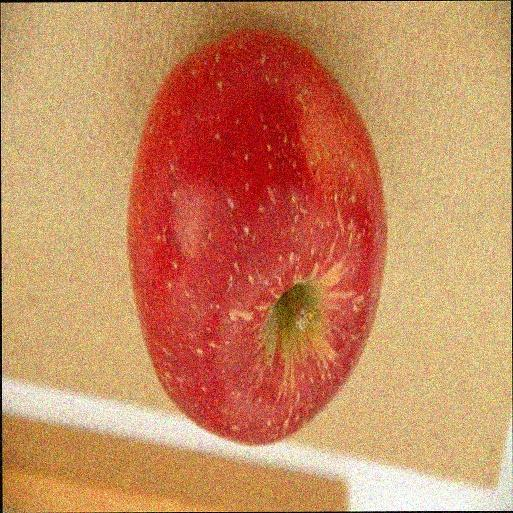red apple: (124, 31, 390, 448)
